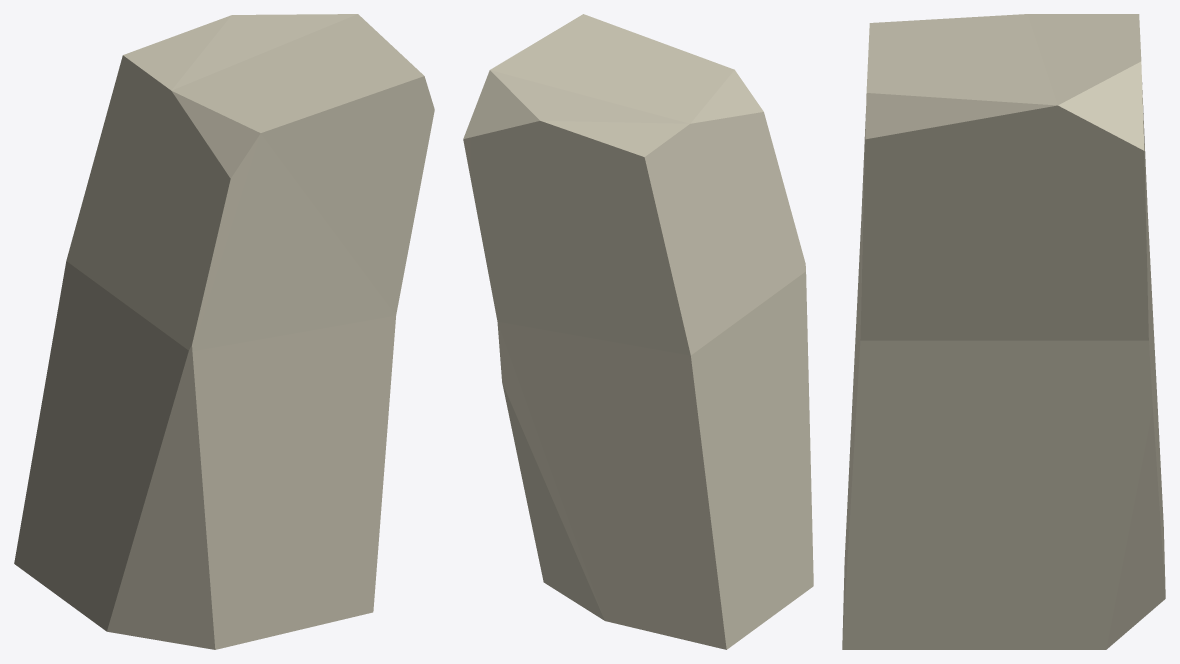
Rendered from Rock_Square_l_06.fbx.
The picture shows the model from 3 angles, left to right: view 1: azimuth 30°, elevation 25°; view 2: azimuth 150°, elevation 25°; view 3: azimuth 270°, elevation 25°; orthographic projection. The views are drawn at different scales.
Parts seen in each view (by area): view 1: Rock_Square_l_06; view 2: Rock_Square_l_06; view 3: Rock_Square_l_06.
Part boxes in pixels (box(x1,y1,x2,y2)): Rock_Square_l_06: box(14, 14, 434, 649); Rock_Square_l_06: box(463, 14, 813, 649); Rock_Square_l_06: box(842, 14, 1165, 649).
Size of the model in its own units: 166 by 274 by 136.
